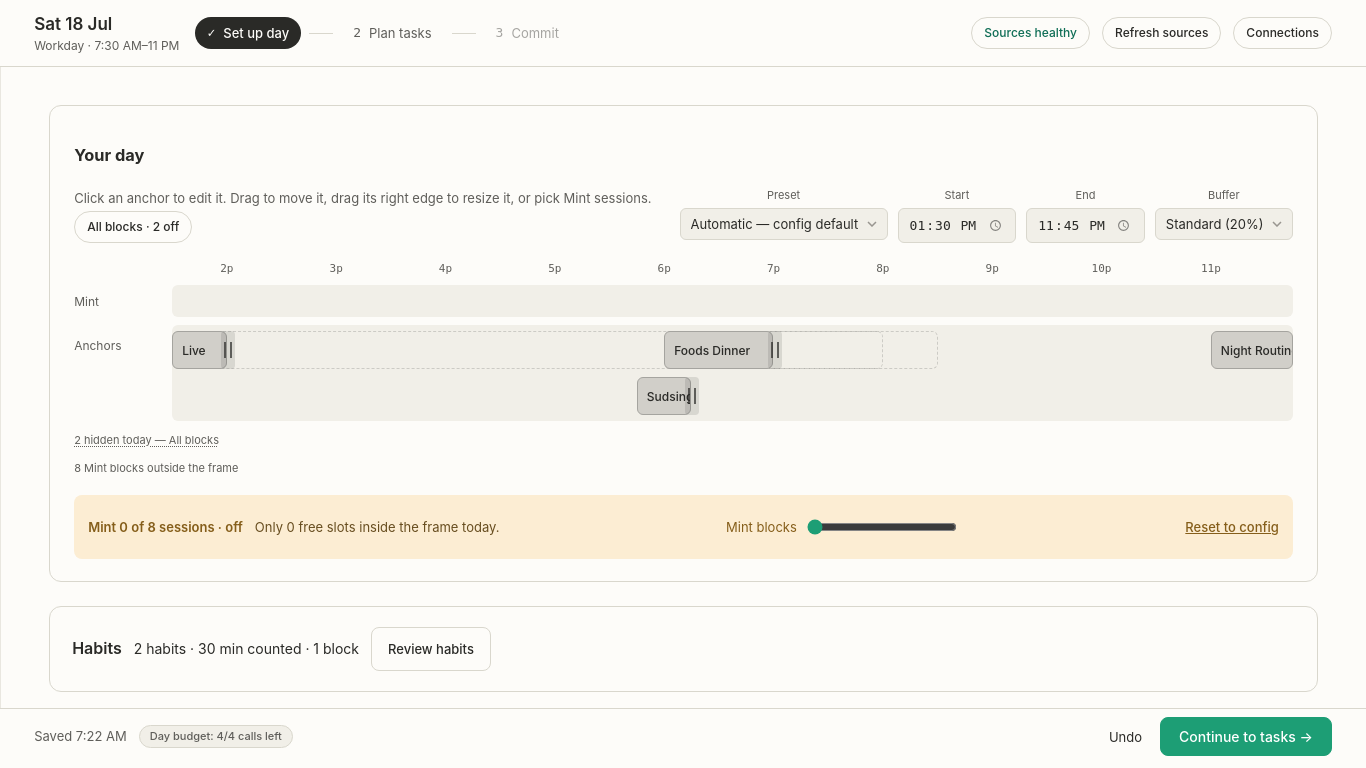
Test: U12 Set up day composition › re-includes an explicitly off elapsed anchor from All blocks and draws it counted
The width and height of the screenshot is (1366, 768).
Click the button "2 hidden today — All blocks": (150, 440) [74,429,1293,449]
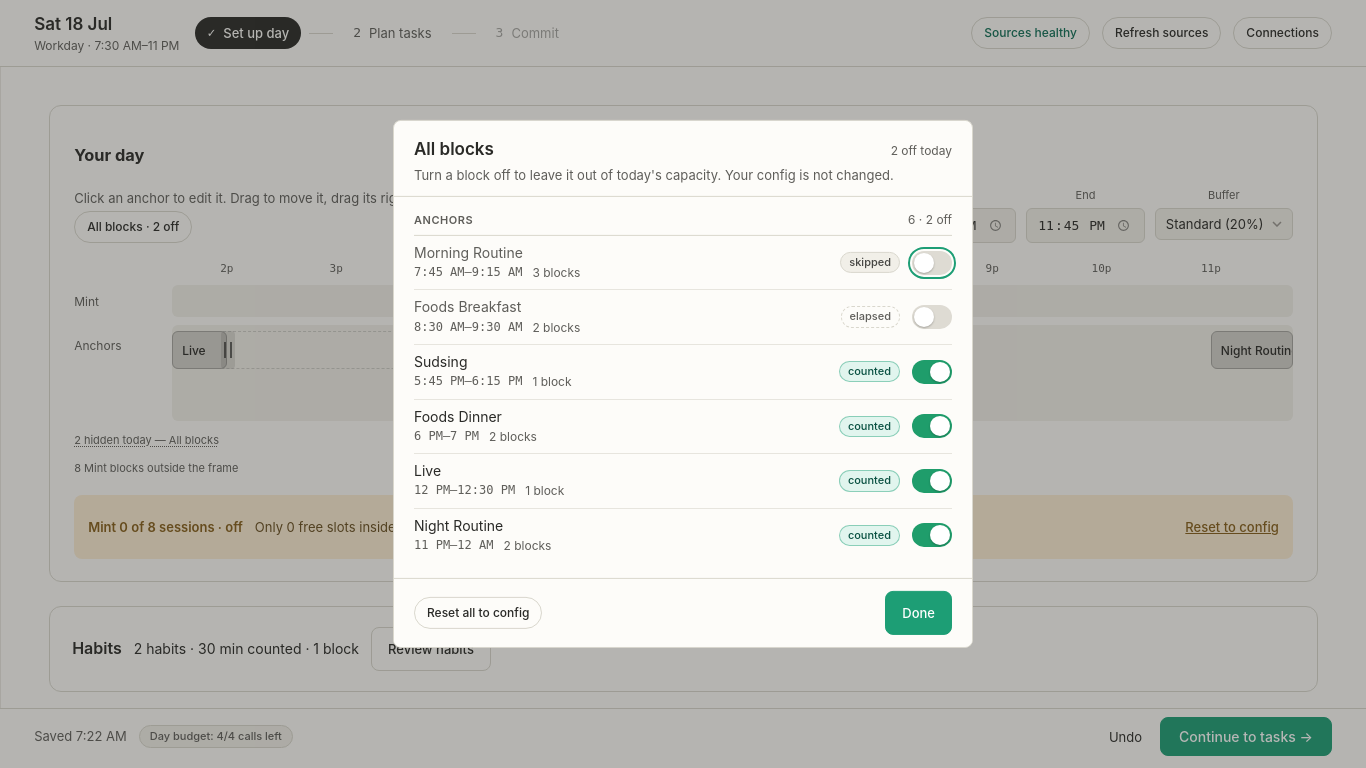
Click the switch named "Count Morning Routine today": (932, 262) [912,250,952,274]
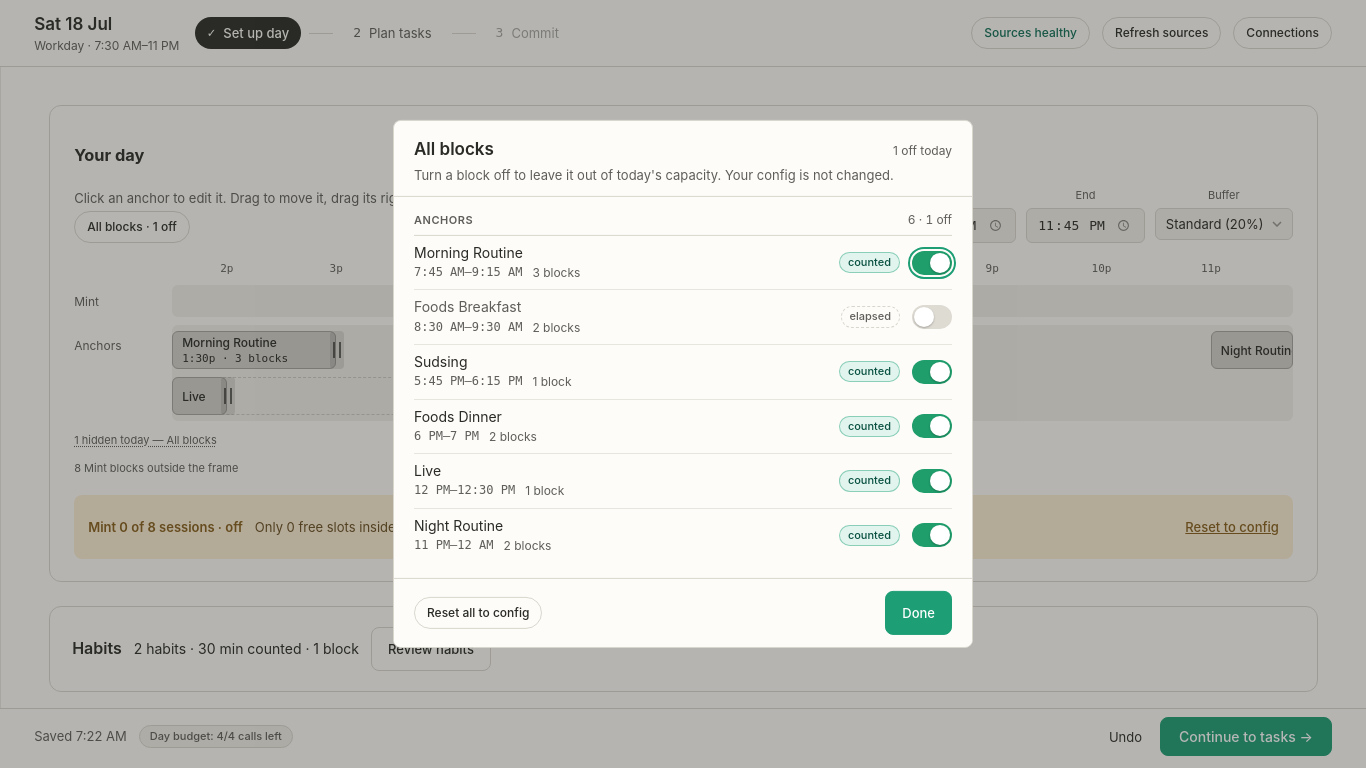
Check: the button "Morning Routine 1:30p · 3 blocks" is shown, box [172,331,336,369]
Check: the text with class "all-blocks__status" in the row of "7:45 AM–9:15 AM" reads "counted", box [848,255,891,269]
